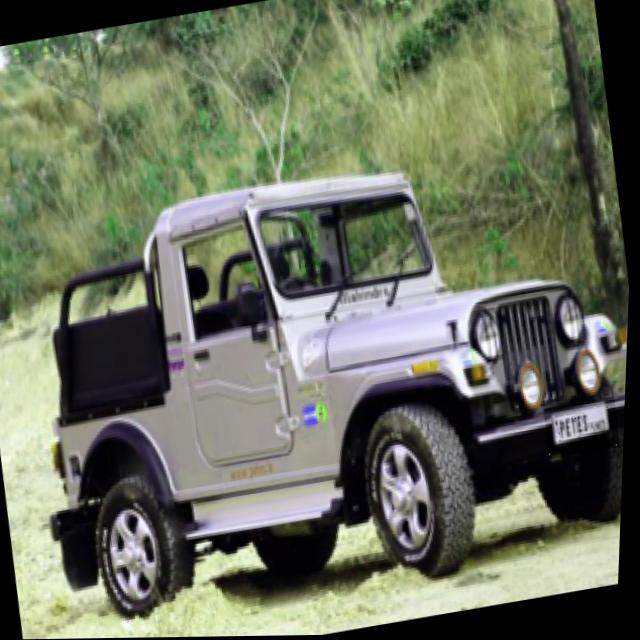license_plate: (545, 399, 625, 460)
